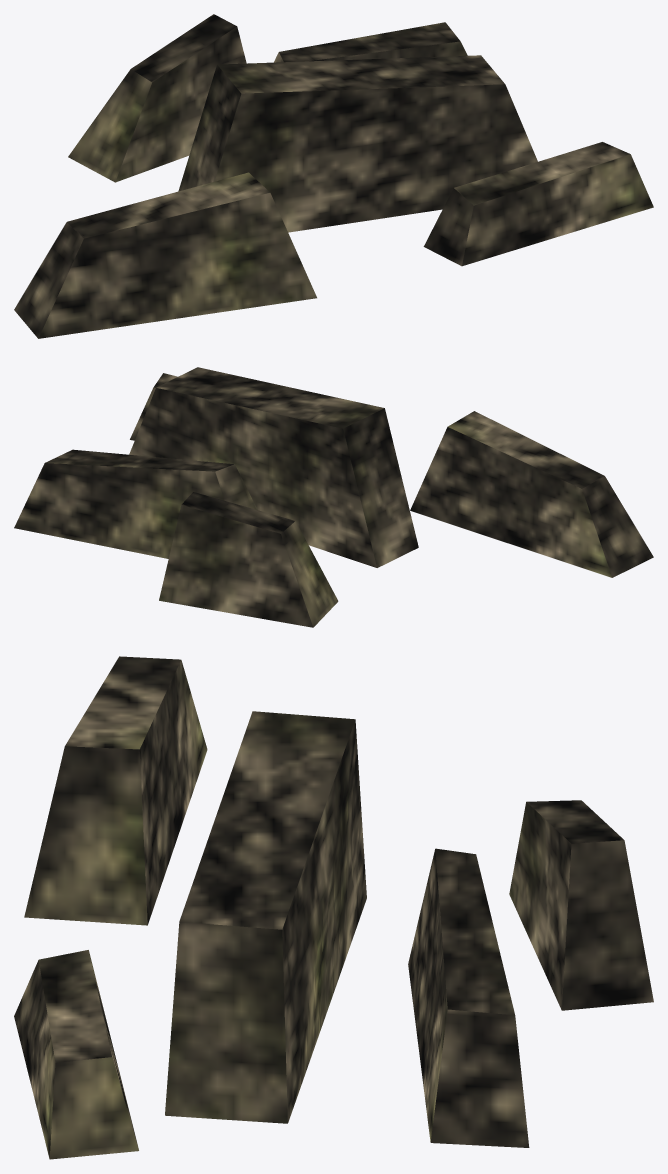
Rendered from rock_tclump3.glb.
The picture shows the model from 3 angles, top to bottom: view 1: azimuth 30°, elevation 25°; view 2: azimuth 150°, elevation 25°; view 3: azimuth 270°, elevation 25°; orthographic projection. The views are drawn at different scales.
Parts seen in each view (by area): view 1: Rock_TCLump3; view 2: Rock_TCLump3; view 3: Rock_TCLump3.
Part boxes in pixels (box(x1,y1,x2,y2)): Rock_TCLump3: box(14, 14, 653, 338); Rock_TCLump3: box(14, 367, 653, 627); Rock_TCLump3: box(14, 656, 653, 1159).
Size of the model in its own units: 24.61 by 5.74 by 15.93.
Materials: 1 (1 with a texture image).
